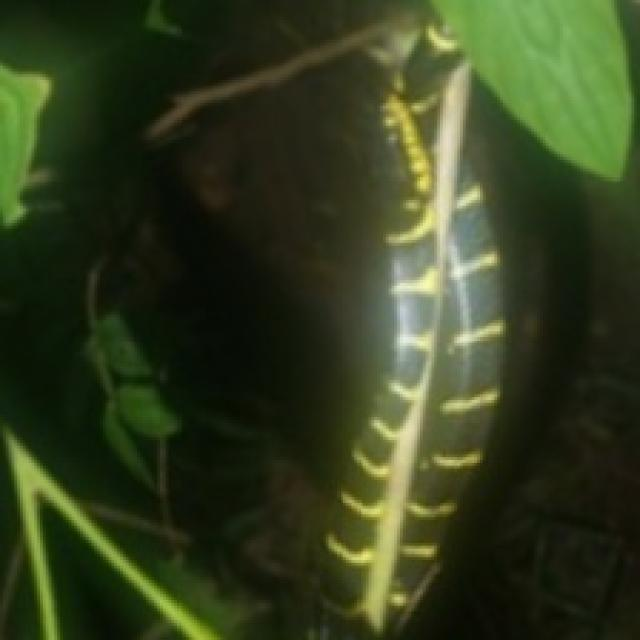mangrove cat snake: (326, 63, 503, 629)
